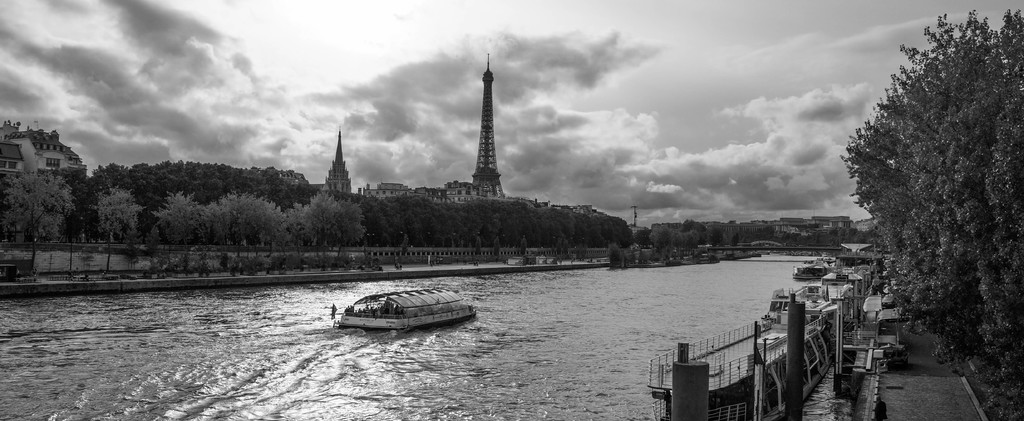boat: (324, 265, 490, 354)
